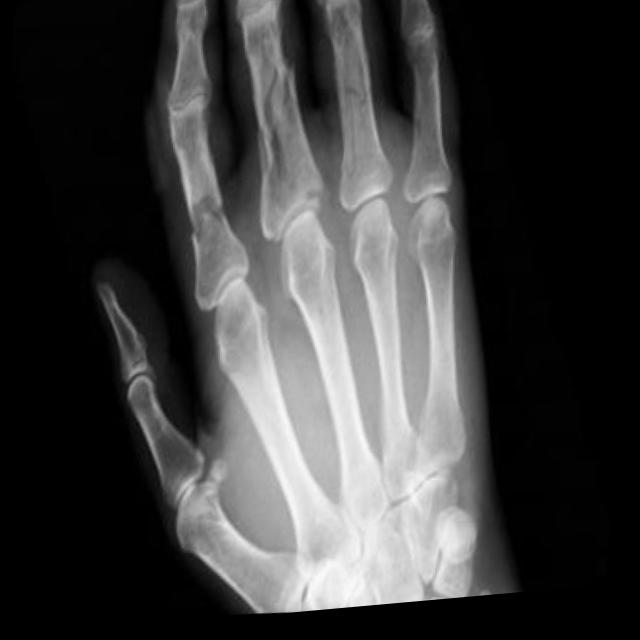fracture: (246, 64, 308, 190), (328, 78, 382, 191), (176, 177, 232, 266)
